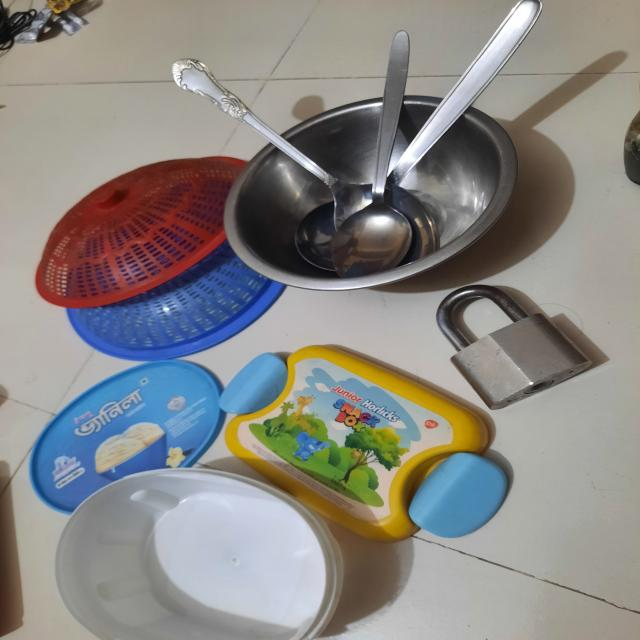Metal: (245, 10, 556, 287), (435, 290, 617, 386)
Plastics: (17, 349, 476, 640), (28, 150, 228, 373)
